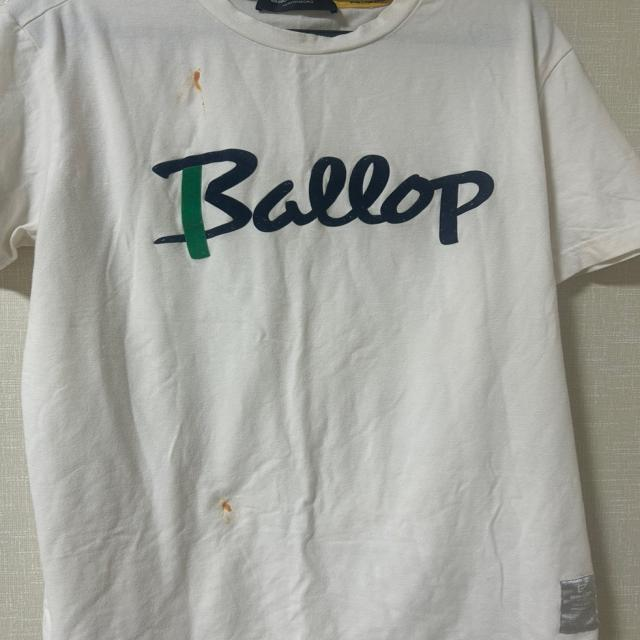stain: (186, 61, 212, 118), (215, 495, 236, 525)
